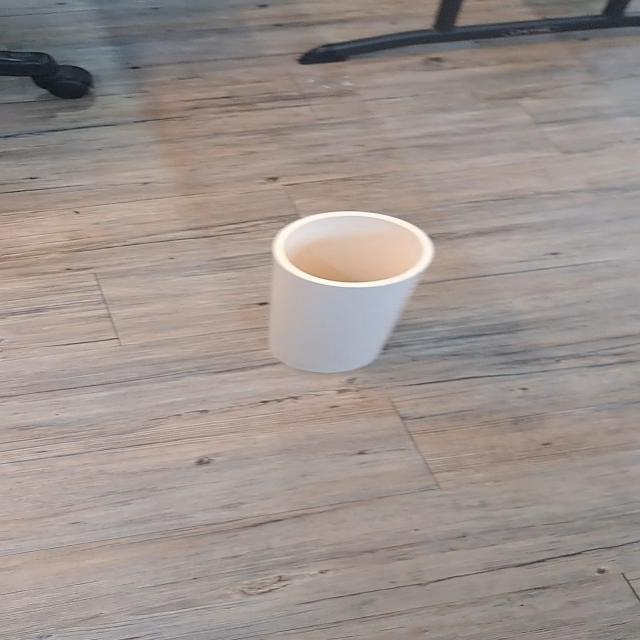CORAL: (256, 199, 454, 385)
